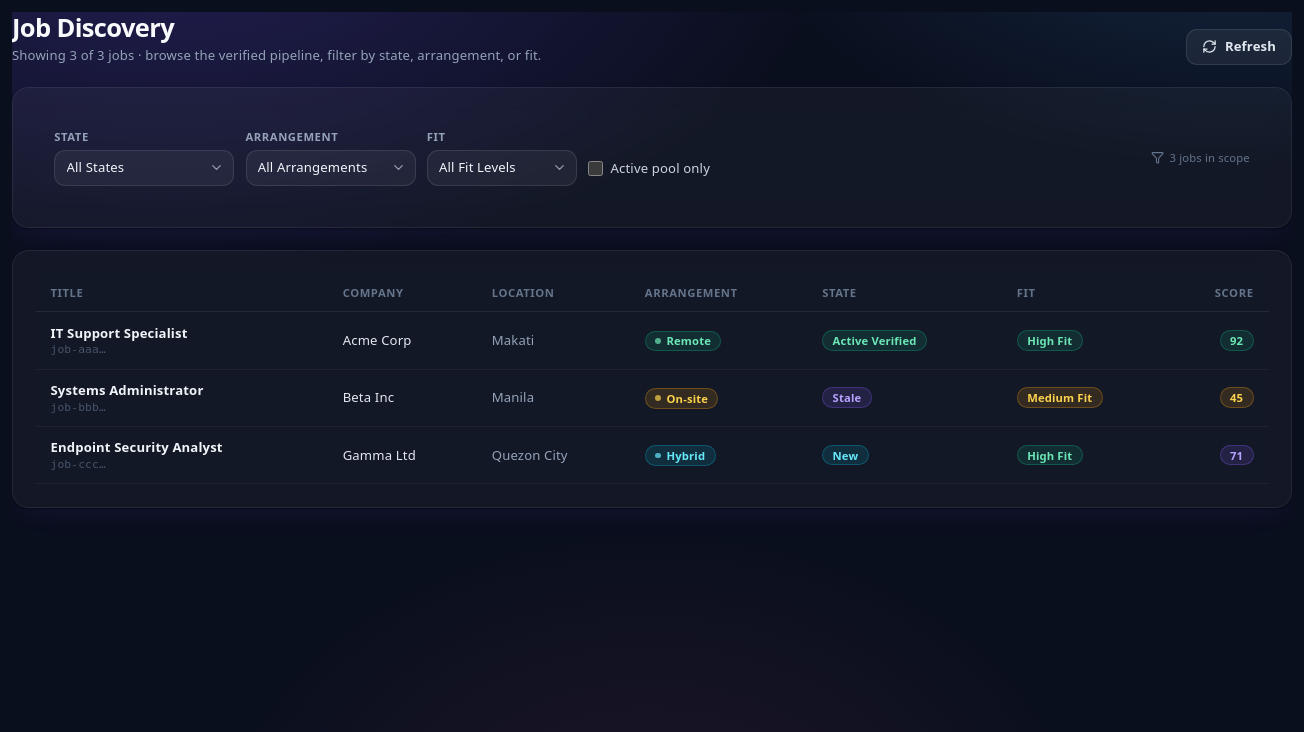
Scenario: Jobs › shows a no-jobs empty state when the filtered list is empty
Select "Low" in the dropdown labelled "Fit" at (502, 168), box [427,150,577,186]
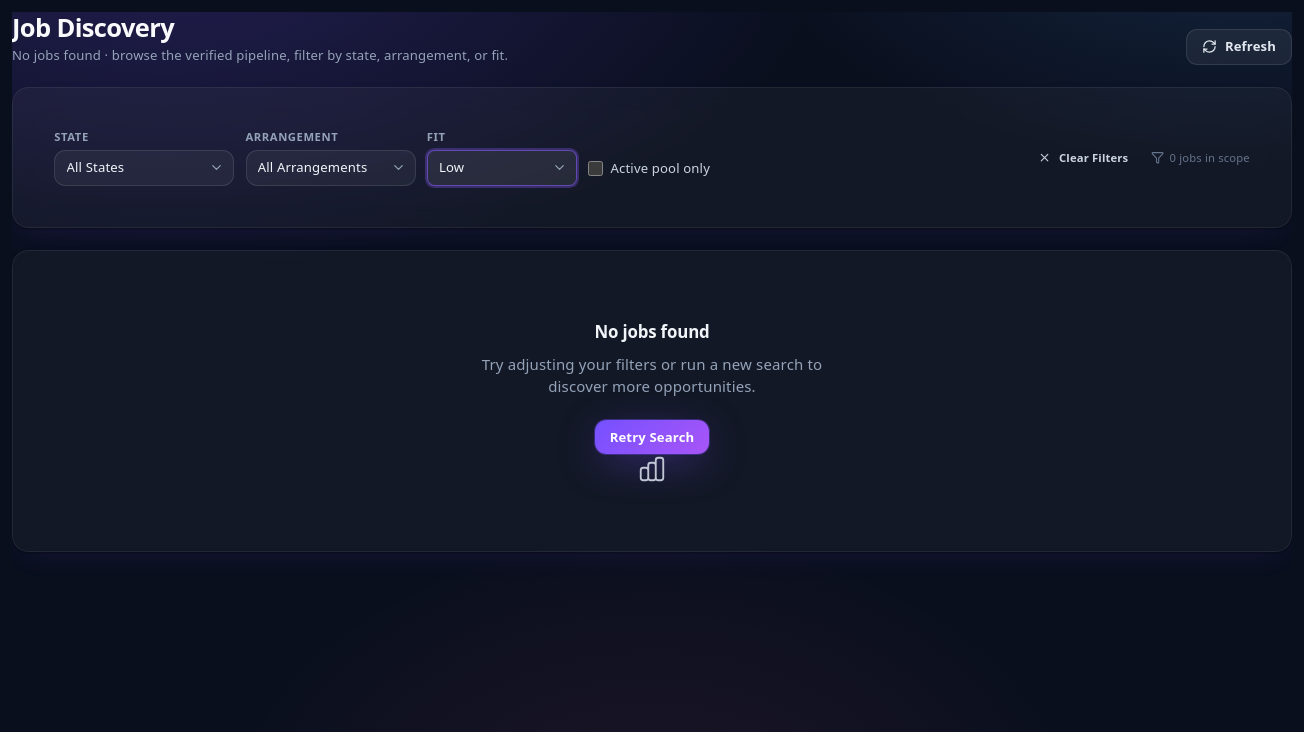
Expected: the heading "No jobs found" is shown, [594,319,710,345]
